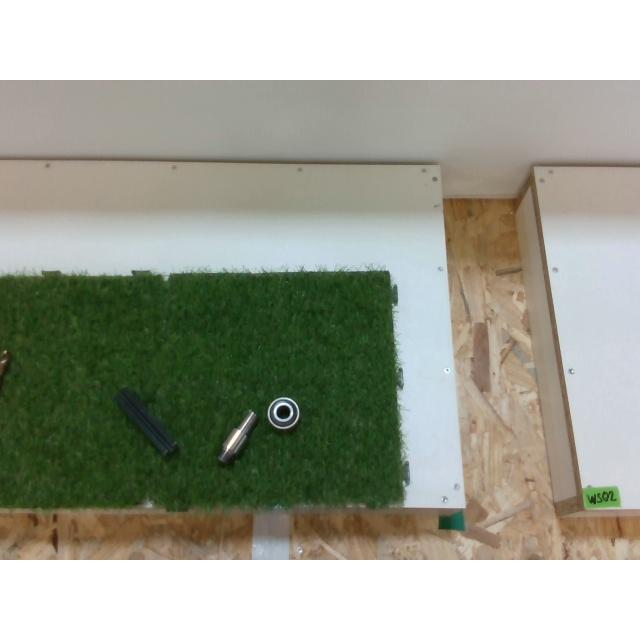Axis2: (218, 410, 255, 466)
Bearing2: (266, 397, 298, 429)
F20_20_B: (114, 388, 176, 452)
